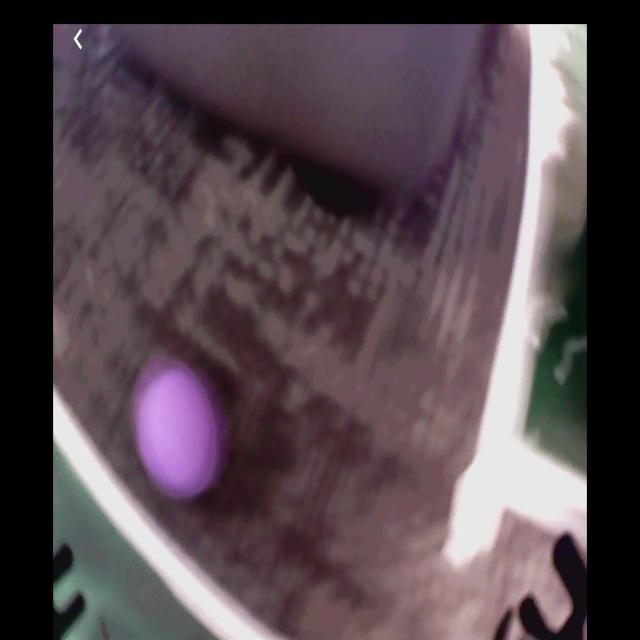ball: (135, 366, 220, 500)
